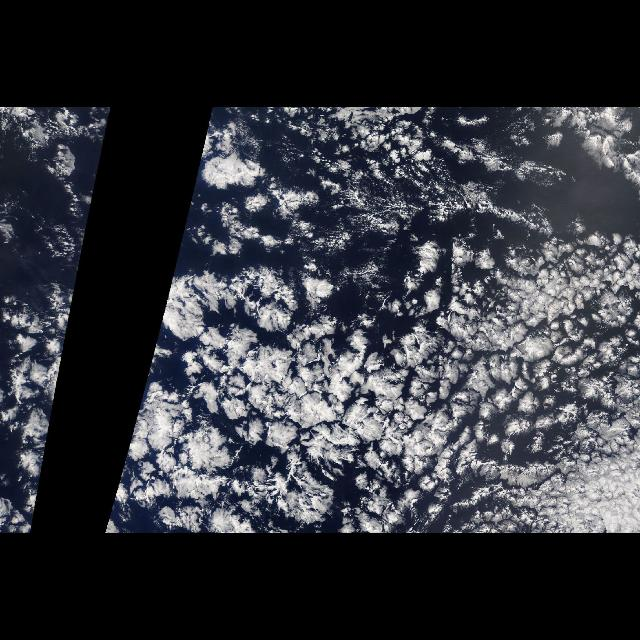Fish: (428, 164, 562, 238)
